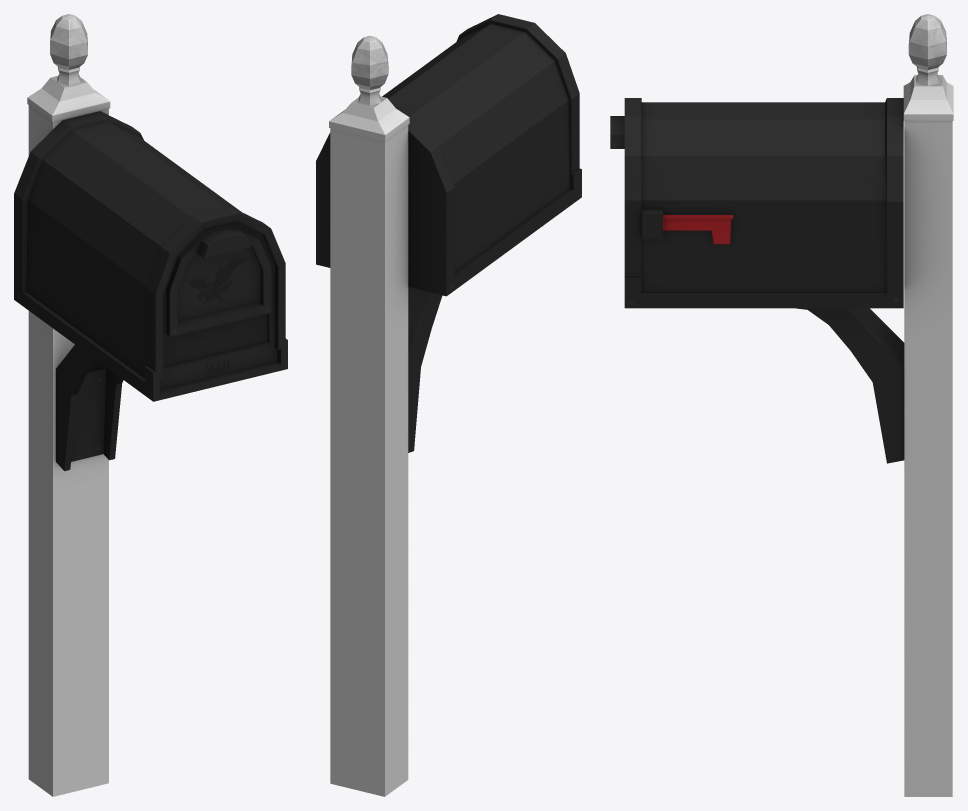
The picture shows the model from 3 angles, left to right: view 1: azimuth 30°, elevation 25°; view 2: azimuth 150°, elevation 25°; view 3: azimuth 270°, elevation 25°; orthographic projection. The views are drawn at different scales.
Parts seen in each view (by area): view 1: Mailbox_Mesh; view 2: Mailbox_Mesh; view 3: Mailbox_Mesh.
Boxes of the visible parts, left/top/right/bottom form: Mailbox_Mesh: left=14, top=14, right=287, bottom=796; Mailbox_Mesh: left=316, top=14, right=581, bottom=796; Mailbox_Mesh: left=610, top=14, right=953, bottom=796.
Size of the model in its own units: 0.8557 by 4.53 by 1.84.
Materials: 1 (1 with a texture image).
